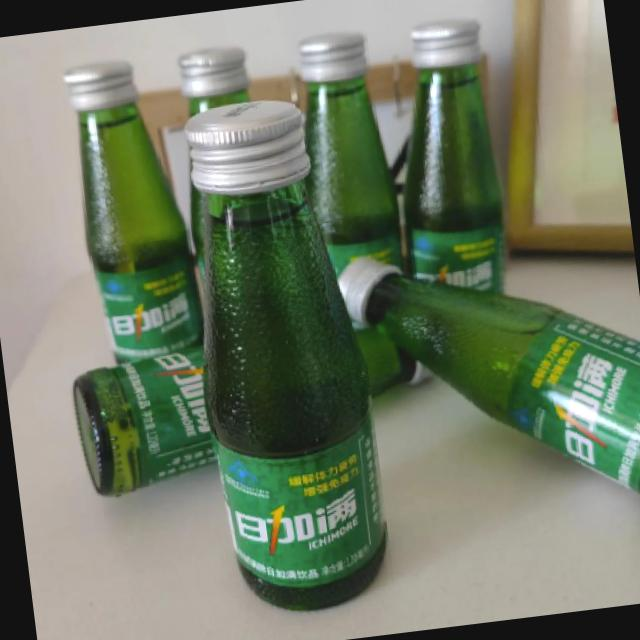bottle: (166, 95, 396, 623), (330, 219, 640, 548), (65, 53, 206, 369), (376, 14, 514, 302), (288, 30, 400, 279), (67, 350, 222, 502), (172, 40, 254, 112)
